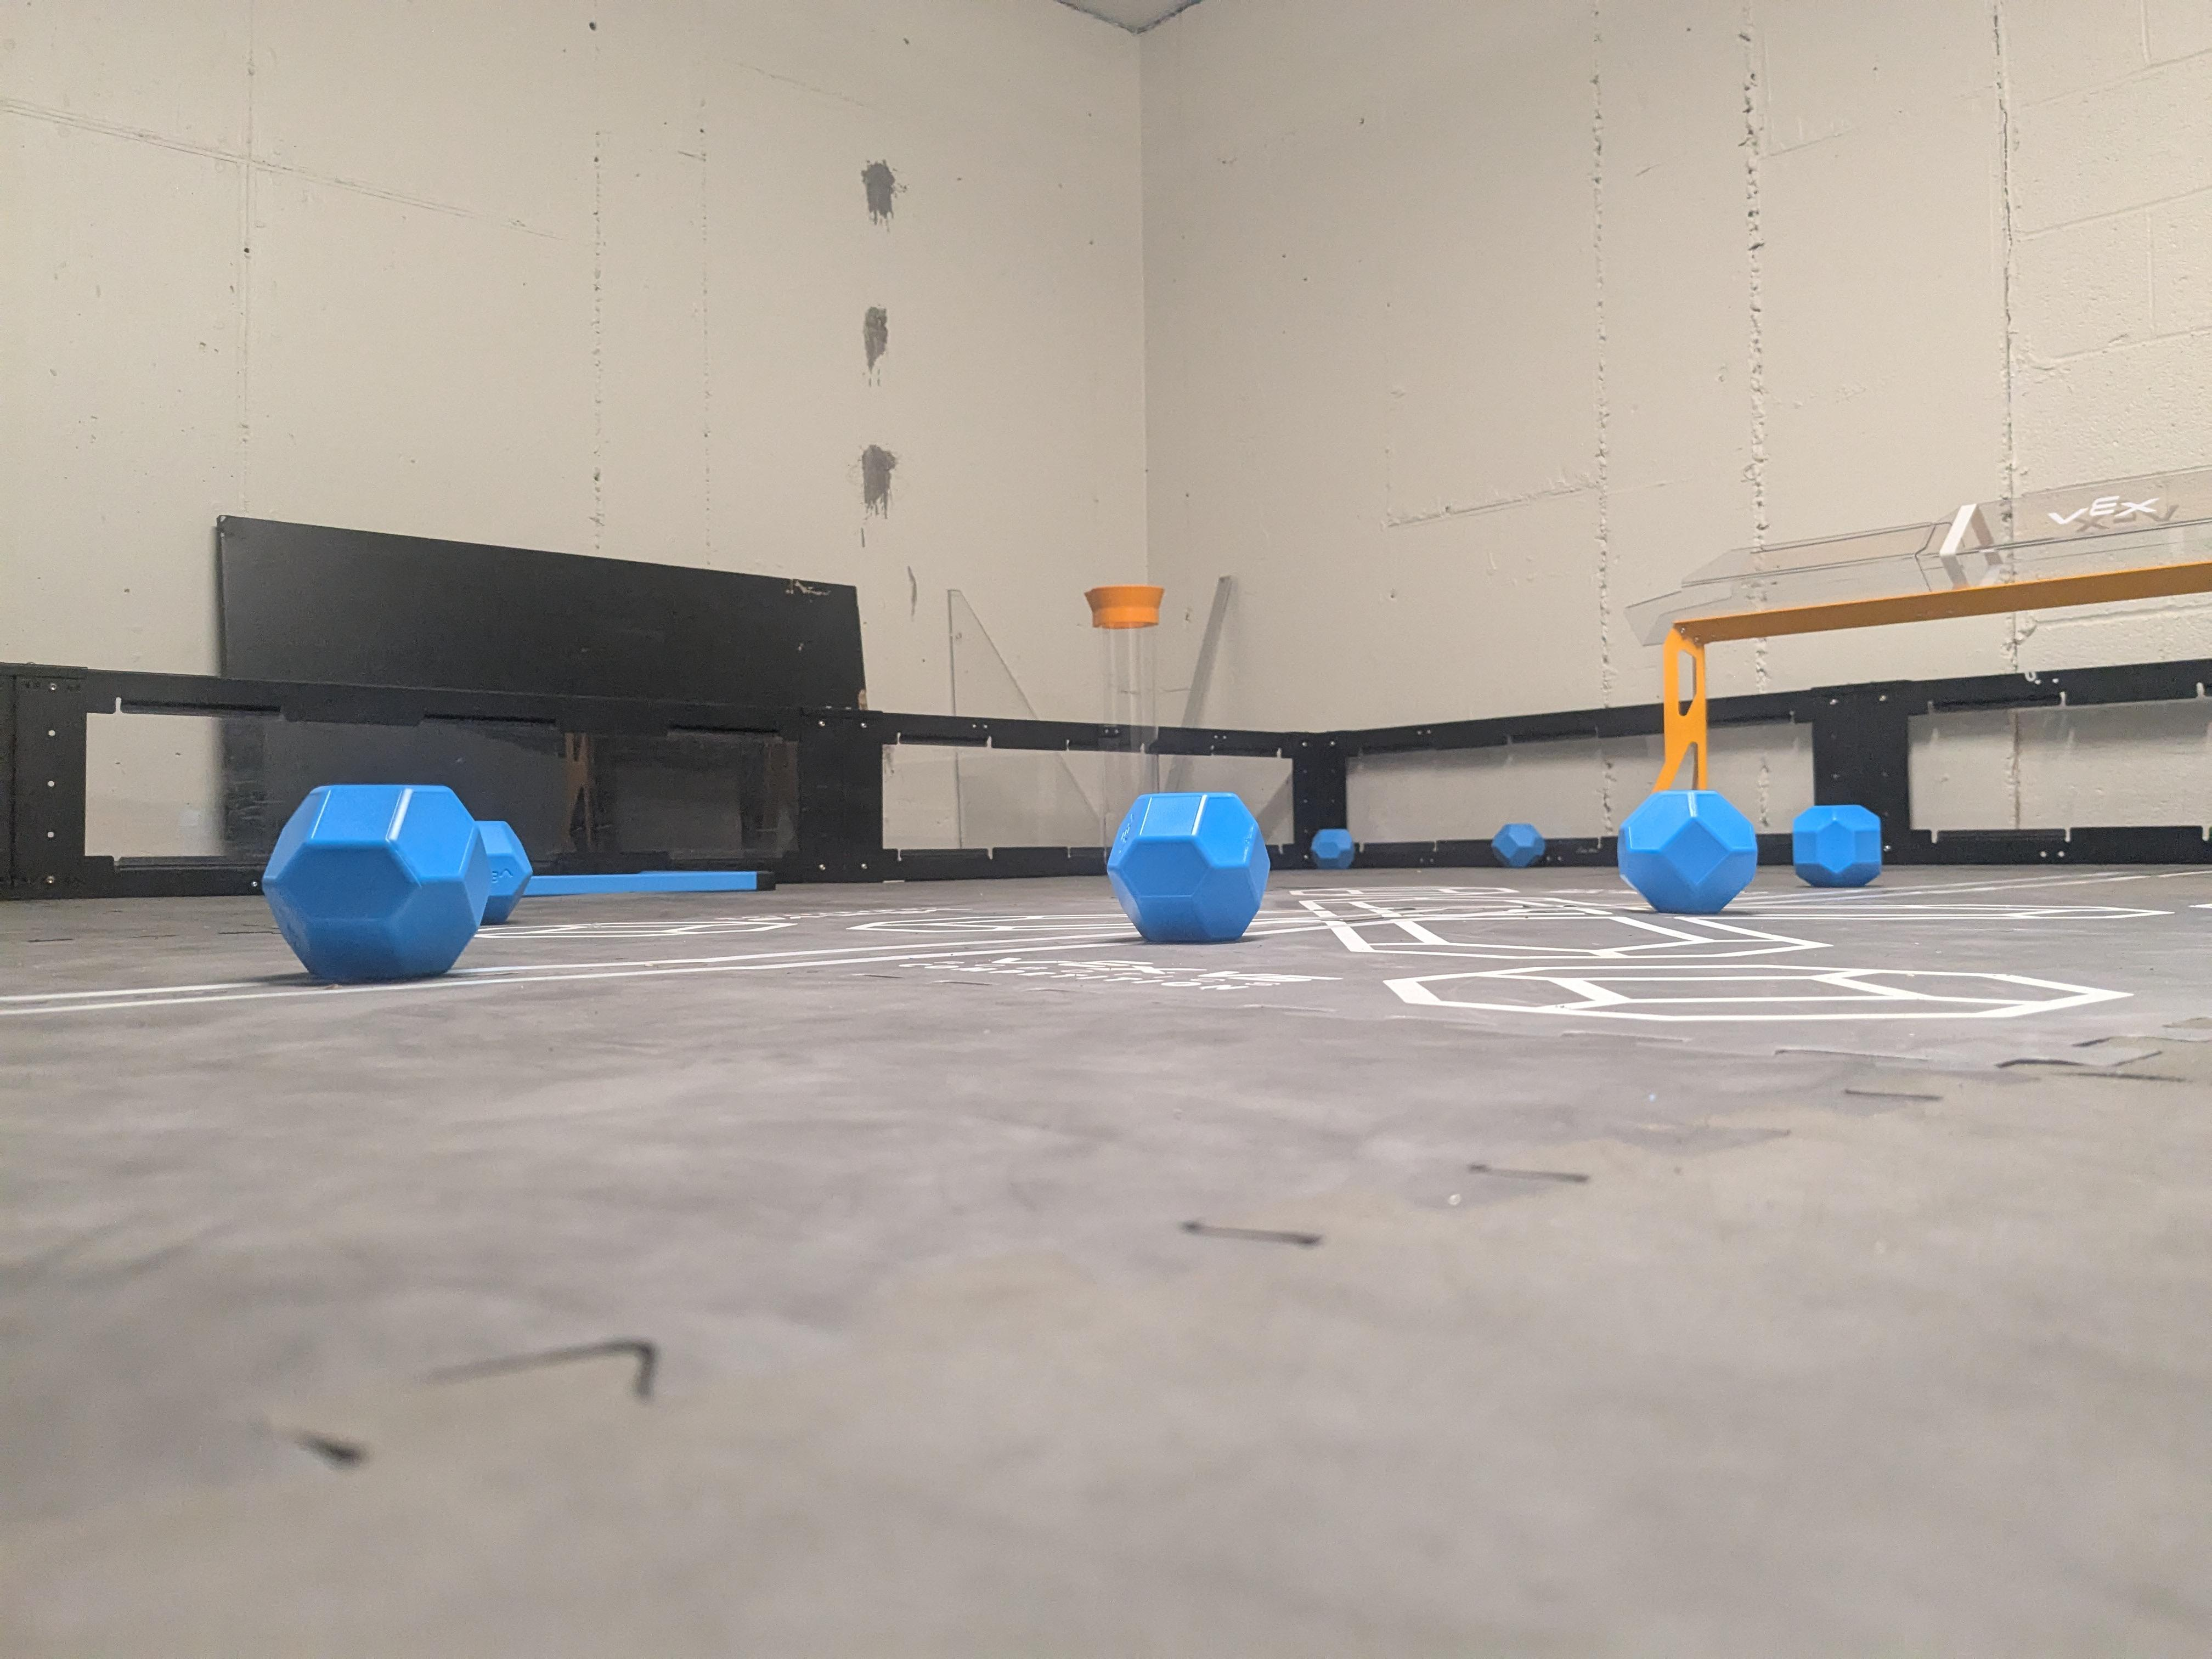Vex-Pieces-BLUE: (261, 782, 533, 979), (1106, 793, 1264, 941), (1616, 795, 1756, 904), (1792, 805, 1881, 887), (1489, 823, 1545, 868), (1310, 828, 1355, 870)
